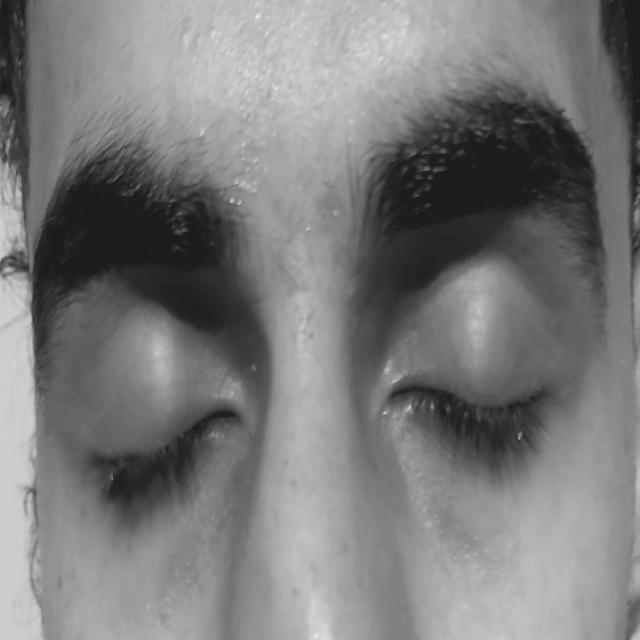real: (54, 230, 594, 560)
